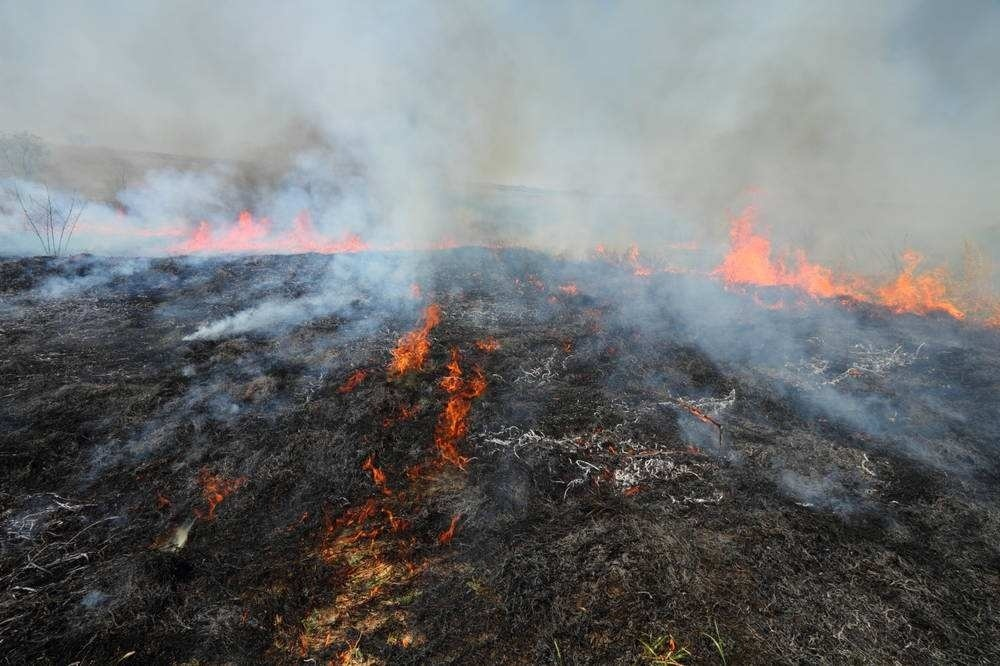fire: (709, 196, 1000, 330), (164, 207, 370, 252), (192, 465, 248, 515)
